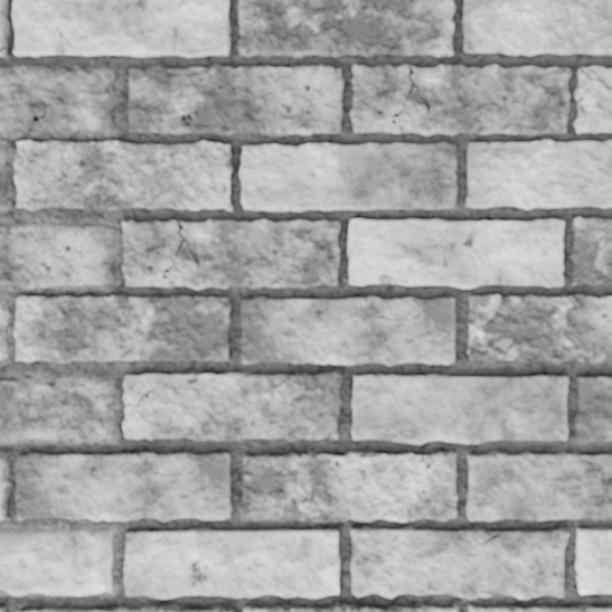brick: (350, 526, 568, 598), (350, 64, 569, 134), (128, 64, 342, 135), (14, 139, 230, 209), (15, 450, 230, 520), (352, 373, 567, 443), (123, 370, 341, 439), (121, 219, 339, 288), (239, 451, 455, 520), (124, 528, 338, 597), (241, 295, 454, 364), (240, 142, 455, 210), (13, 294, 229, 361), (347, 219, 562, 286), (238, 0, 453, 57), (12, 0, 228, 56), (466, 139, 611, 208), (466, 451, 611, 519), (467, 294, 611, 361), (463, 0, 611, 53), (0, 222, 115, 289), (0, 374, 115, 441), (0, 529, 113, 596), (570, 218, 611, 284), (575, 377, 611, 442), (576, 528, 611, 593), (575, 69, 611, 132), (243, 603, 456, 611), (19, 605, 231, 611), (468, 605, 611, 611), (583, 67, 611, 86), (0, 295, 8, 359), (0, 451, 7, 519), (0, 144, 7, 206), (0, 0, 6, 46), (0, 604, 4, 611), (0, 50, 4, 56)
broken_brick: (0, 65, 116, 133)
crack: (390, 63, 431, 124), (162, 219, 201, 278), (123, 379, 161, 419), (39, 295, 70, 337), (579, 67, 611, 90), (165, 63, 218, 76), (0, 1, 10, 58), (4, 466, 15, 512), (577, 95, 601, 114), (2, 603, 7, 611), (605, 499, 611, 505), (451, 184, 456, 190), (607, 476, 611, 481), (43, 127, 47, 130)
